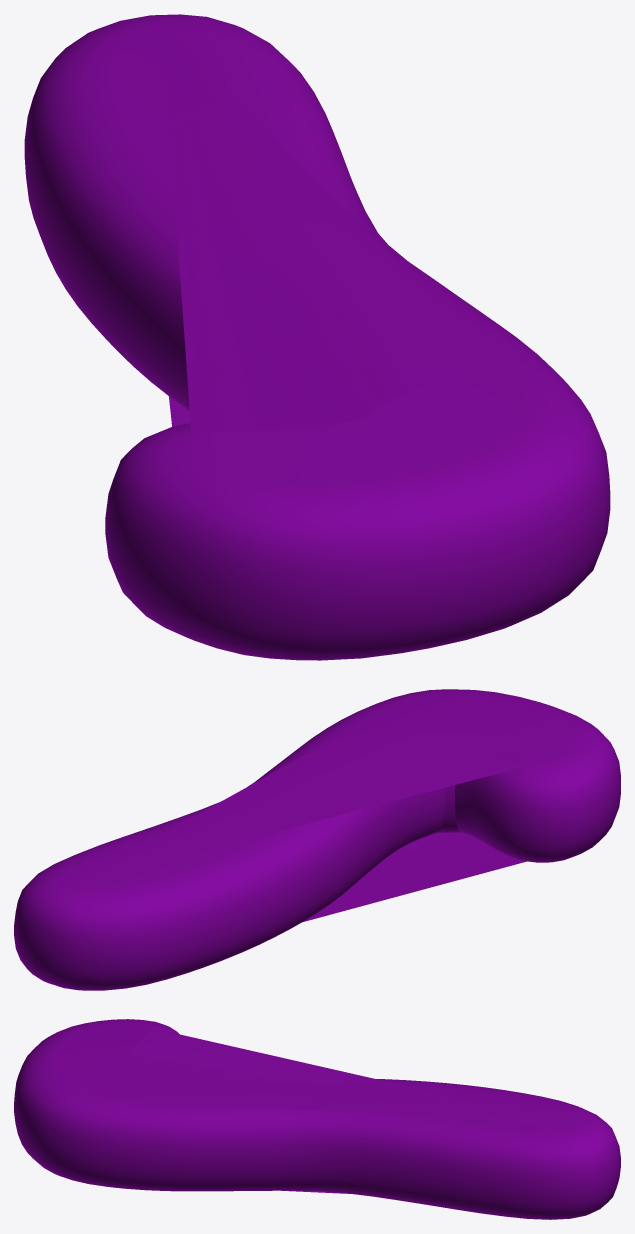
The picture shows the model from 3 angles, top to bottom: view 1: azimuth 30°, elevation 25°; view 2: azimuth 150°, elevation 25°; view 3: azimuth 270°, elevation 25°; orthographic projection. The views are drawn at different scales.
Parts seen in each view (by area): view 1: Curve.011; view 2: Curve.011; view 3: Curve.011.
Boxes of the visible parts, x1,y1,x2,y2 form: Curve.011: [24, 14, 610, 660]; Curve.011: [14, 689, 620, 990]; Curve.011: [14, 1019, 620, 1219].
Bounding box in the file's own units: 183 × 49.54 × 328.
1 material, 1 textured.
